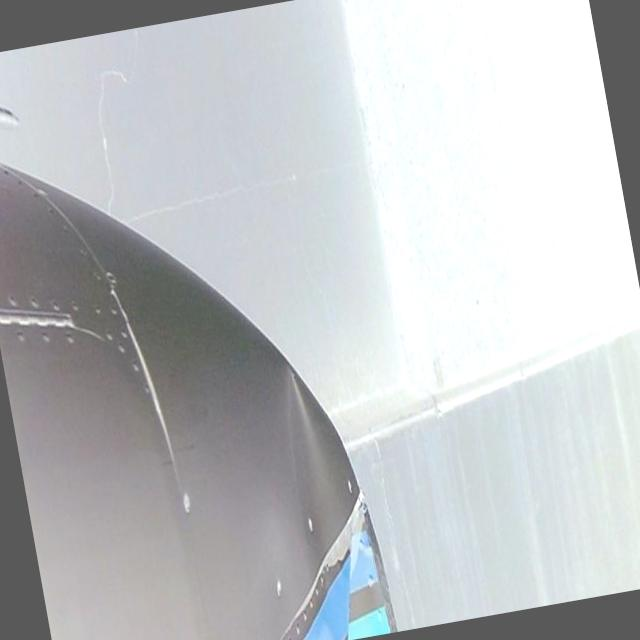dent: (266, 350, 362, 561)
